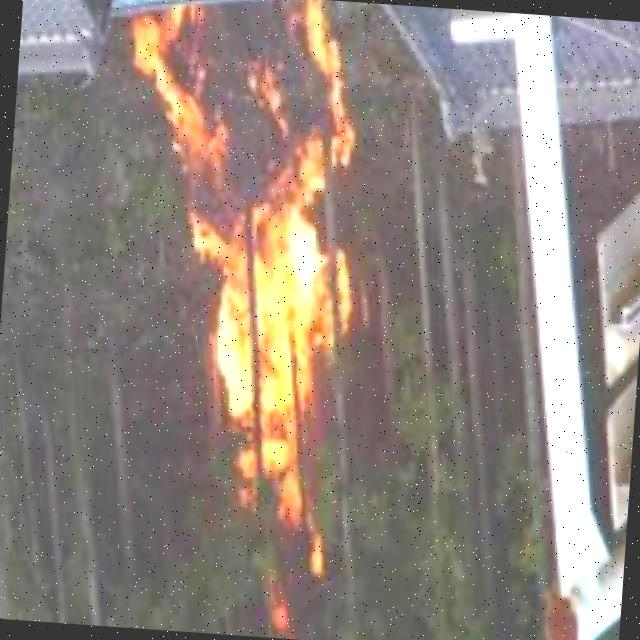fire: (92, 0, 395, 539)
